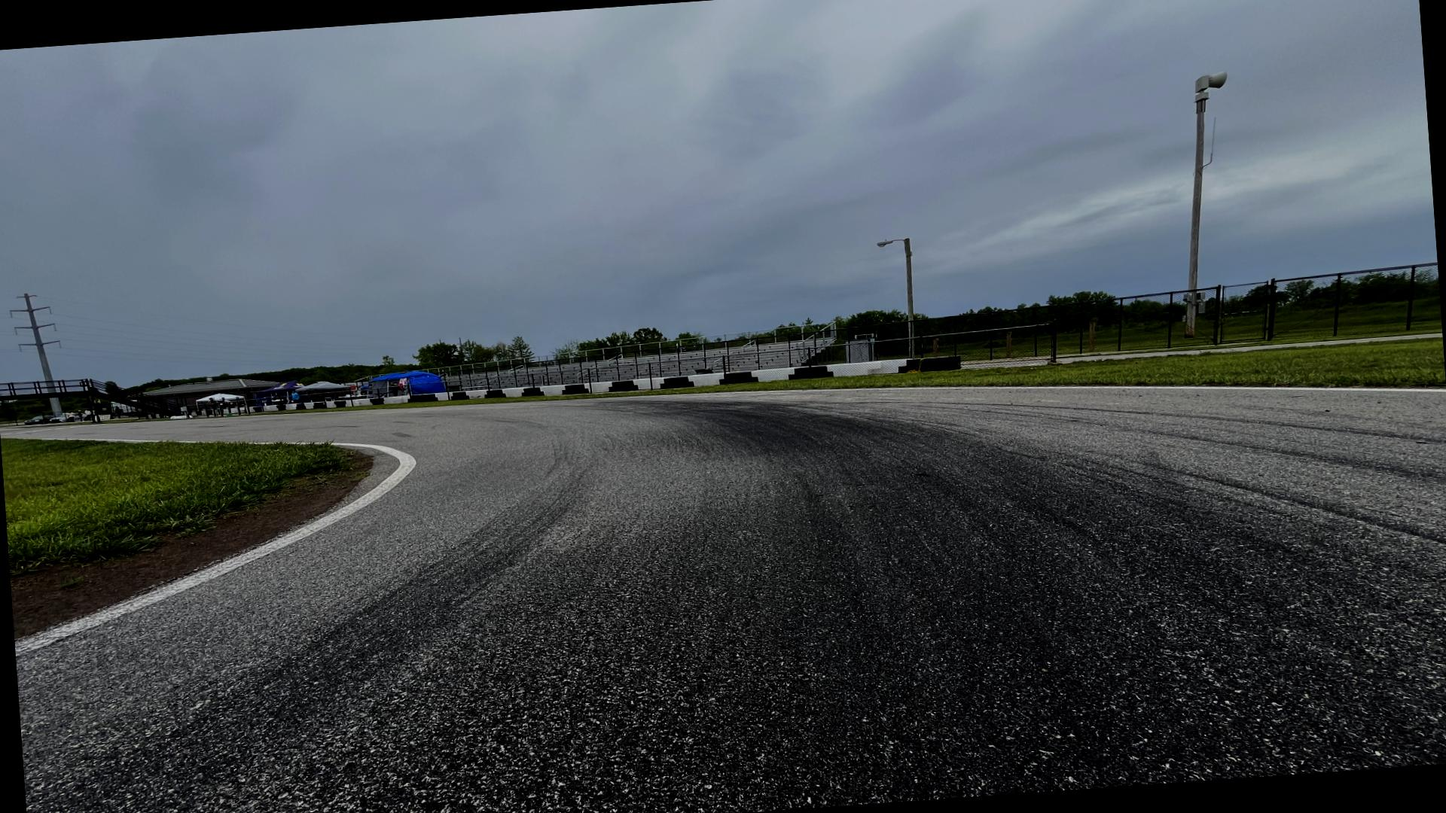white-line: (14, 438, 417, 664), (599, 386, 1445, 399)
